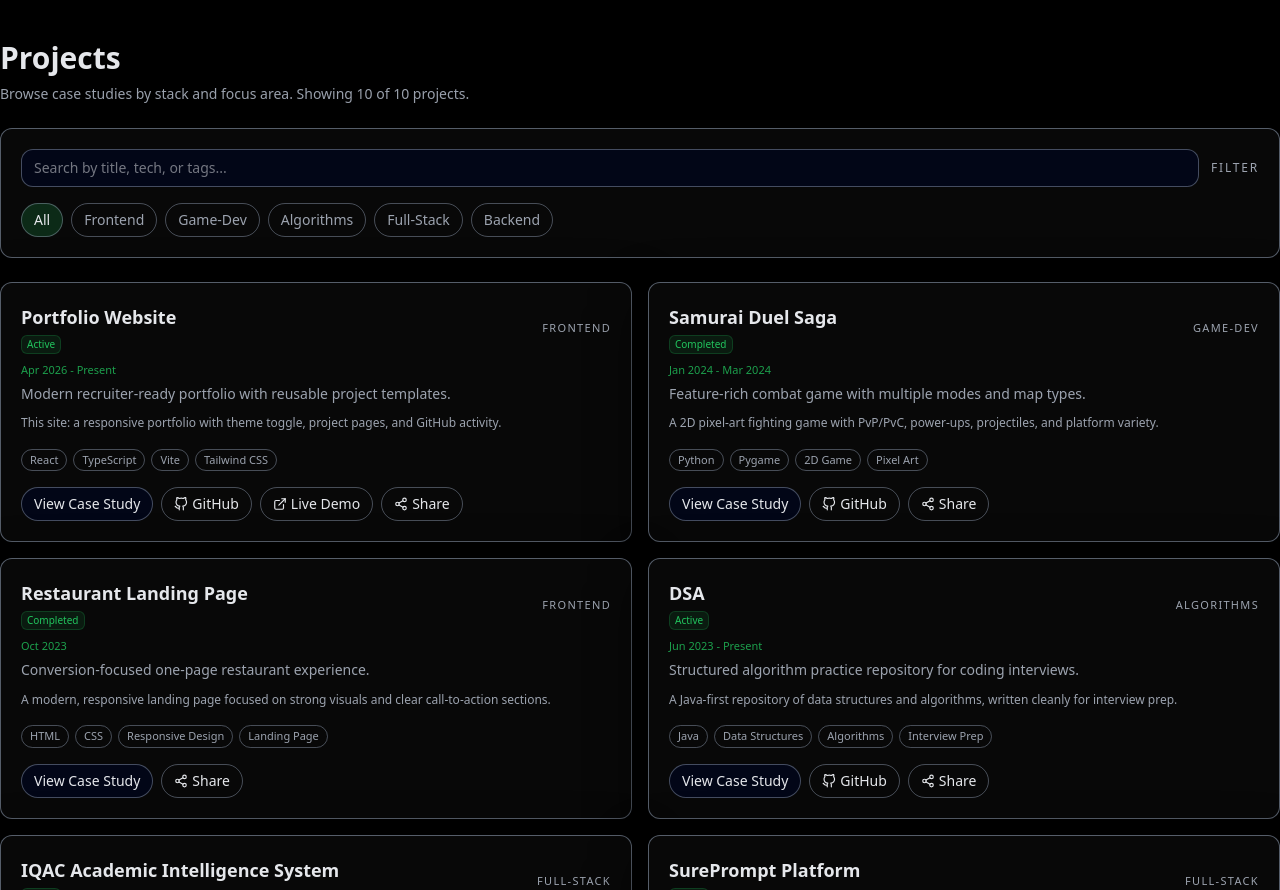
Test case: Projects › filters projects by search query
Step 1. Type "samurai" into the search field named "search projects" → (610, 168), box [21,149,1199,187]
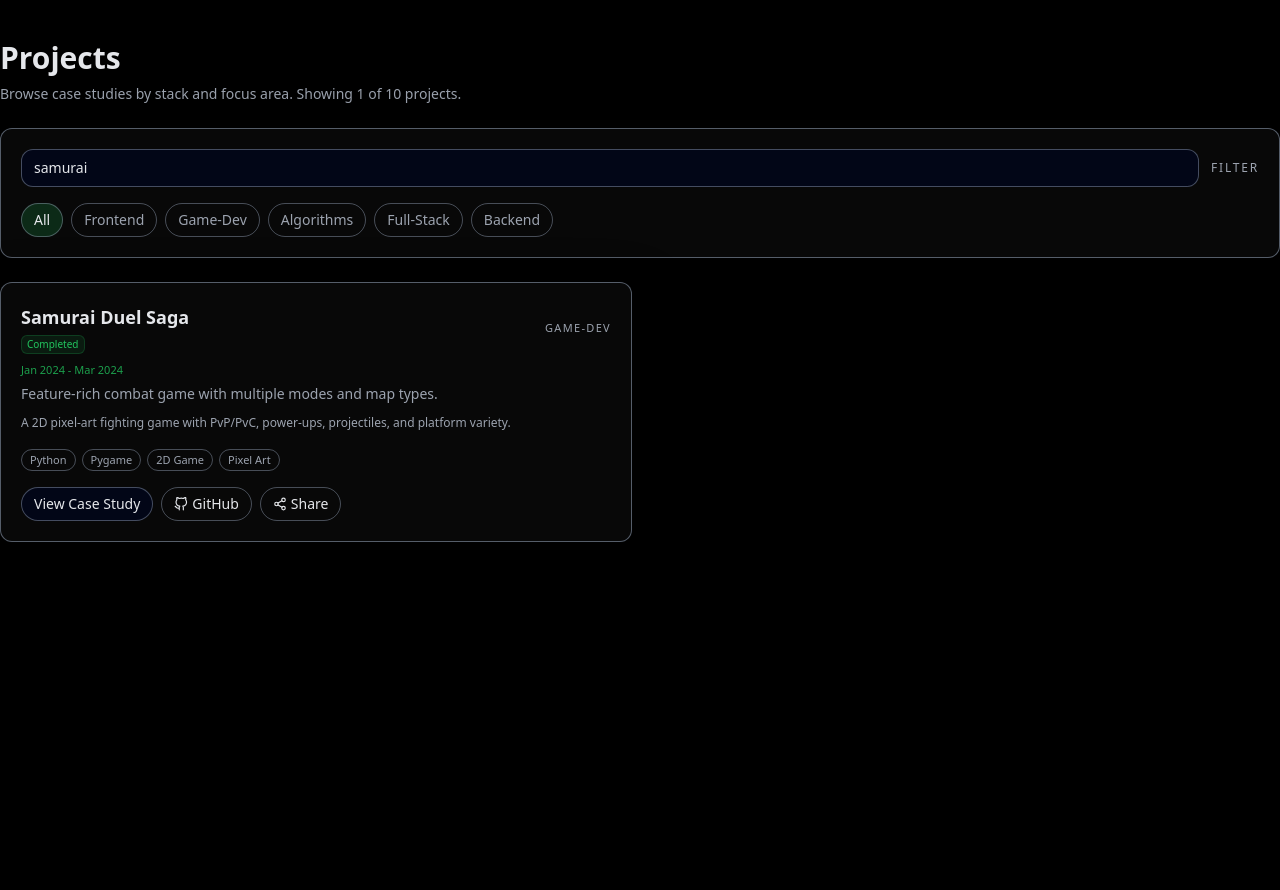
Expected: the heading "Samurai Duel Saga" is shown, [21,303,189,331]
Expected: the heading "Restaurant Landing Page" is gone
